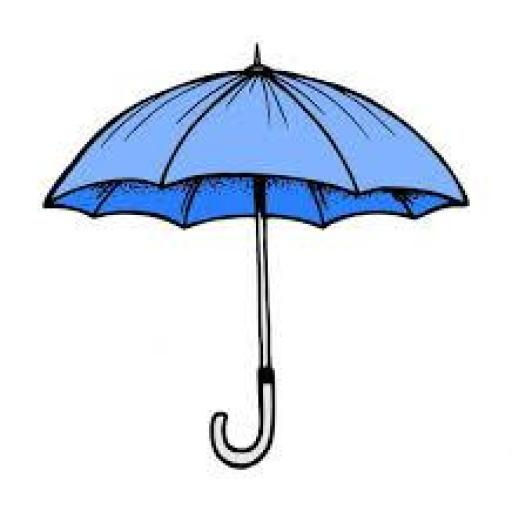guarda_chuva: (40, 40, 470, 468)
